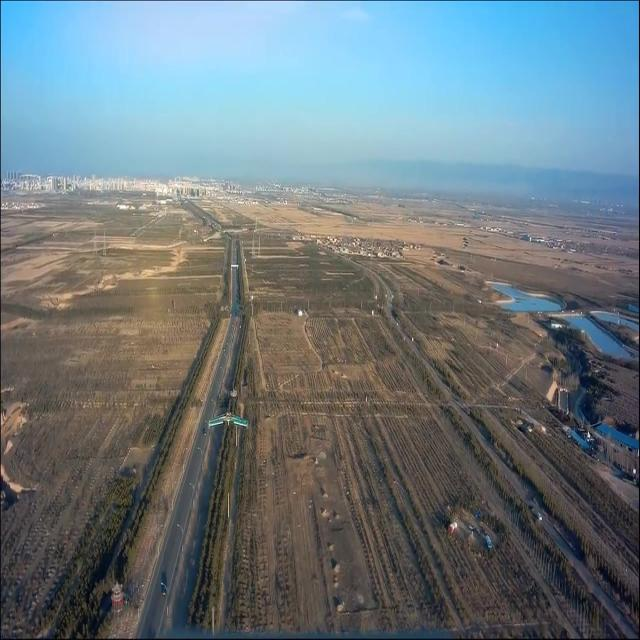iha: (208, 411, 249, 431)
